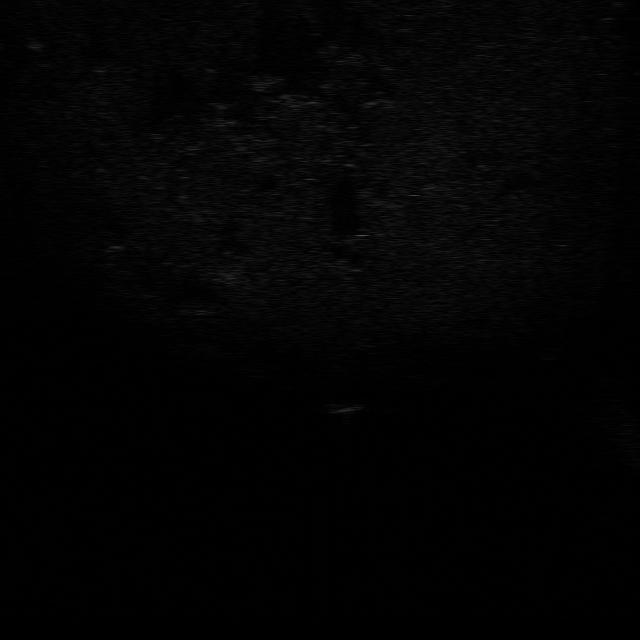square cage: (325, 400, 369, 415)
